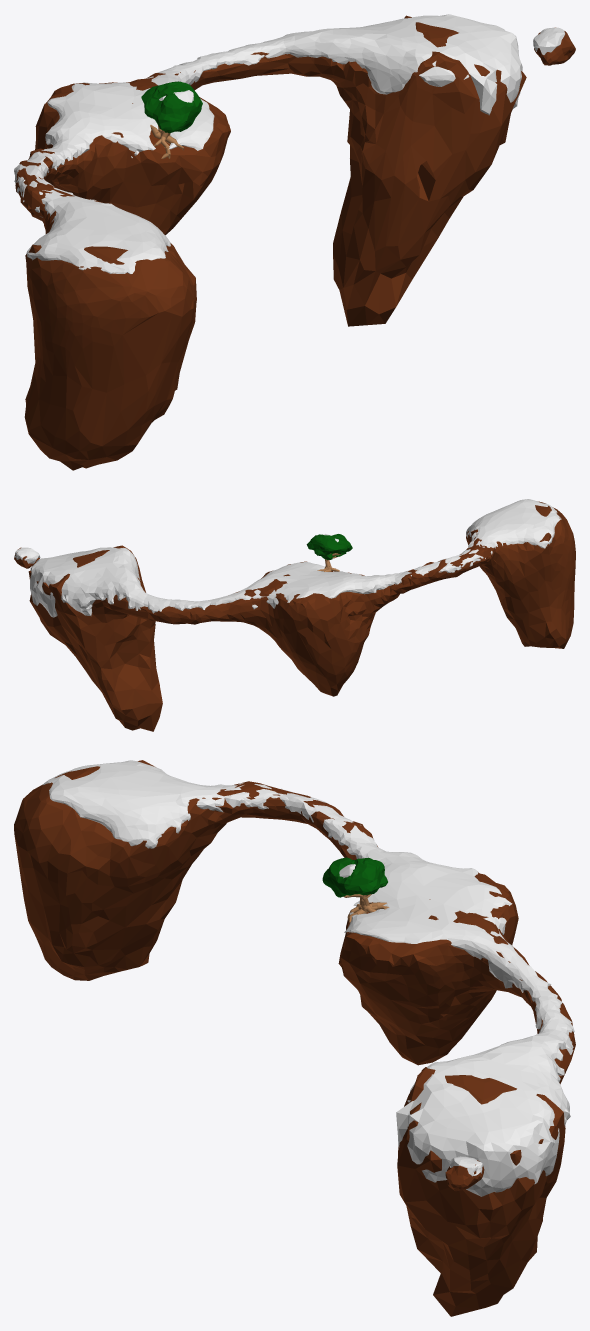
Rendered from Tre_Isola3.fbx.
The picture shows the model from 3 angles, top to bottom: view 1: azimuth 30°, elevation 25°; view 2: azimuth 150°, elevation 25°; view 3: azimuth 270°, elevation 25°; orthographic projection. The views are drawn at different scales.
Parts seen in each view (by area): view 1: Plane.033, Plane.034, Mball.001, Sphere.154, Sphere.153; view 2: Plane.033, Plane.034, Mball.001; view 3: Plane.033, Plane.034, Mball.001.
Boxes of the visible parts, x1,y1,x2,y2 form: Plane.033: [15, 15, 526, 470]; Plane.034: [14, 14, 522, 274]; Mball.001: [141, 81, 202, 133]; Sphere.154: [534, 27, 575, 65]; Sphere.153: [533, 27, 565, 54]; Plane.033: [28, 501, 575, 731]; Plane.034: [30, 499, 561, 617]; Mball.001: [306, 534, 352, 559]; Plane.033: [14, 760, 575, 1316]; Plane.034: [43, 760, 574, 1196]; Mball.001: [322, 857, 387, 897].
Size of the model in its own units: 359 by 160 by 246.
